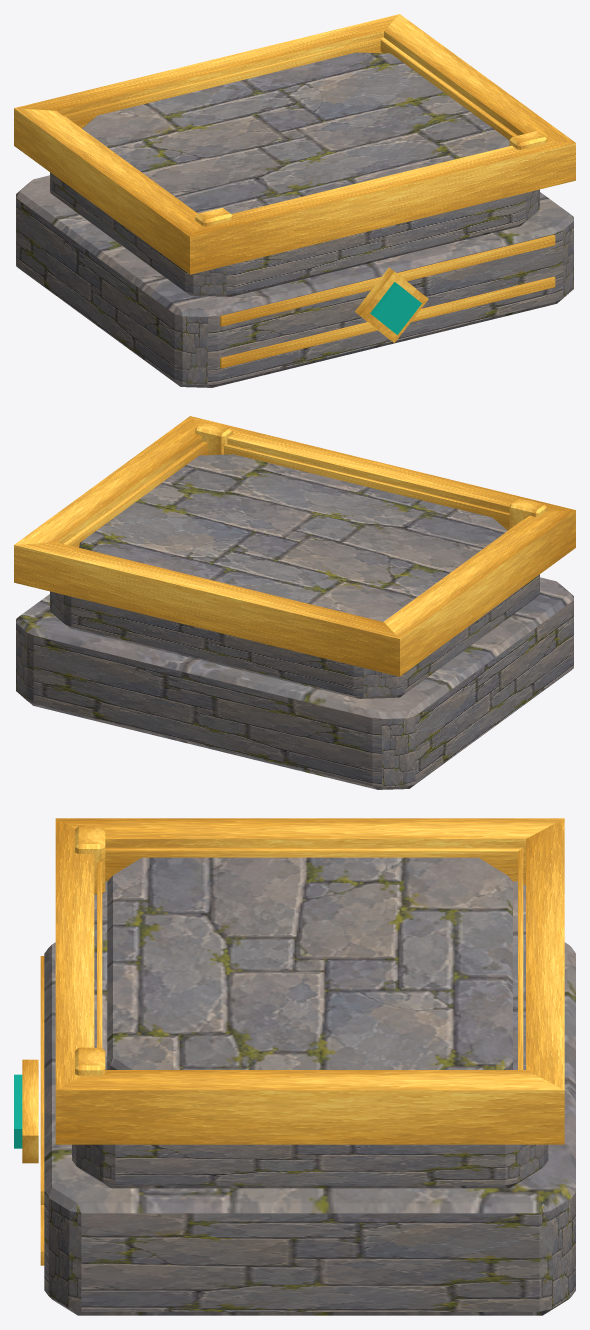
Rendered from ruins-bench.glb.
The picture shows the model from 3 angles, top to bottom: view 1: azimuth 30°, elevation 25°; view 2: azimuth 150°, elevation 25°; view 3: azimuth 270°, elevation 25°; orthographic projection. The views are drawn at different scales.
Parts seen in each view (by area): view 1: SM_ReserveStone, SM_ReserveBronzeBelt, SM_ReserveJadeSeal; view 2: SM_ReserveStone, SM_ReserveBronzeBelt; view 3: SM_ReserveStone, SM_ReserveBronzeBelt, SM_ReserveJadeSeal.
Boxes of the visible parts, box(x1,y1,x2,y2) form: SM_ReserveStone: box(16, 52, 573, 387); SM_ReserveBronzeBelt: box(14, 14, 575, 368); SM_ReserveJadeSeal: box(370, 282, 421, 334); SM_ReserveStone: box(16, 454, 573, 789); SM_ReserveBronzeBelt: box(14, 416, 575, 676); SM_ReserveStone: box(44, 857, 575, 1315); SM_ReserveBronzeBelt: box(22, 818, 564, 1265); SM_ReserveJadeSeal: box(14, 1074, 22, 1148).
Bounding box in the file's own units: 0.698 × 0.269 × 0.5896.
Materials: 3 (3 with a texture image).
